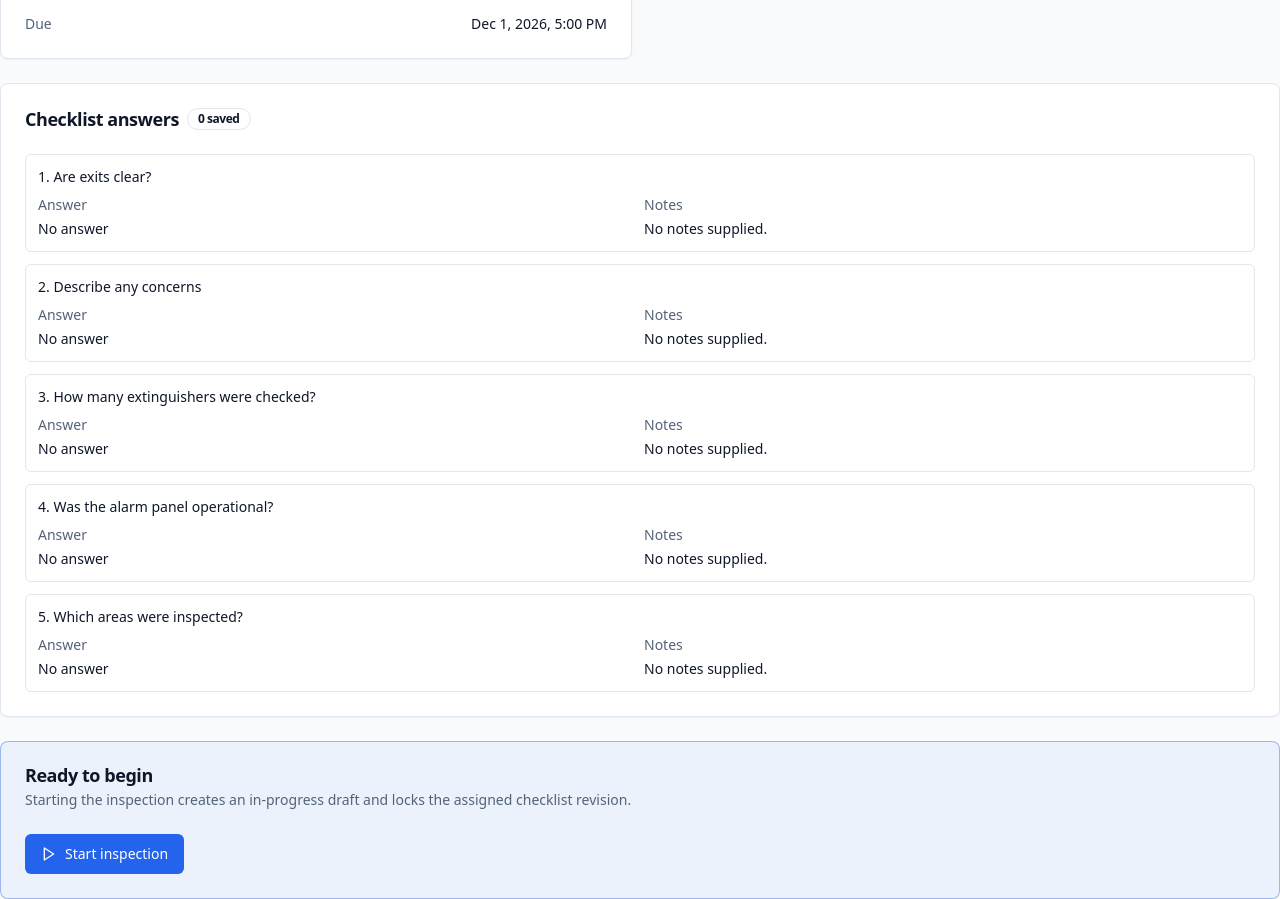
Test case: inspector workflow › starts an assigned inspection from its details page
(page scrolled)
Click the button "Start inspection" at {"x": 105, "y": 854}, box [25,834,184,874]
(page scrolled)
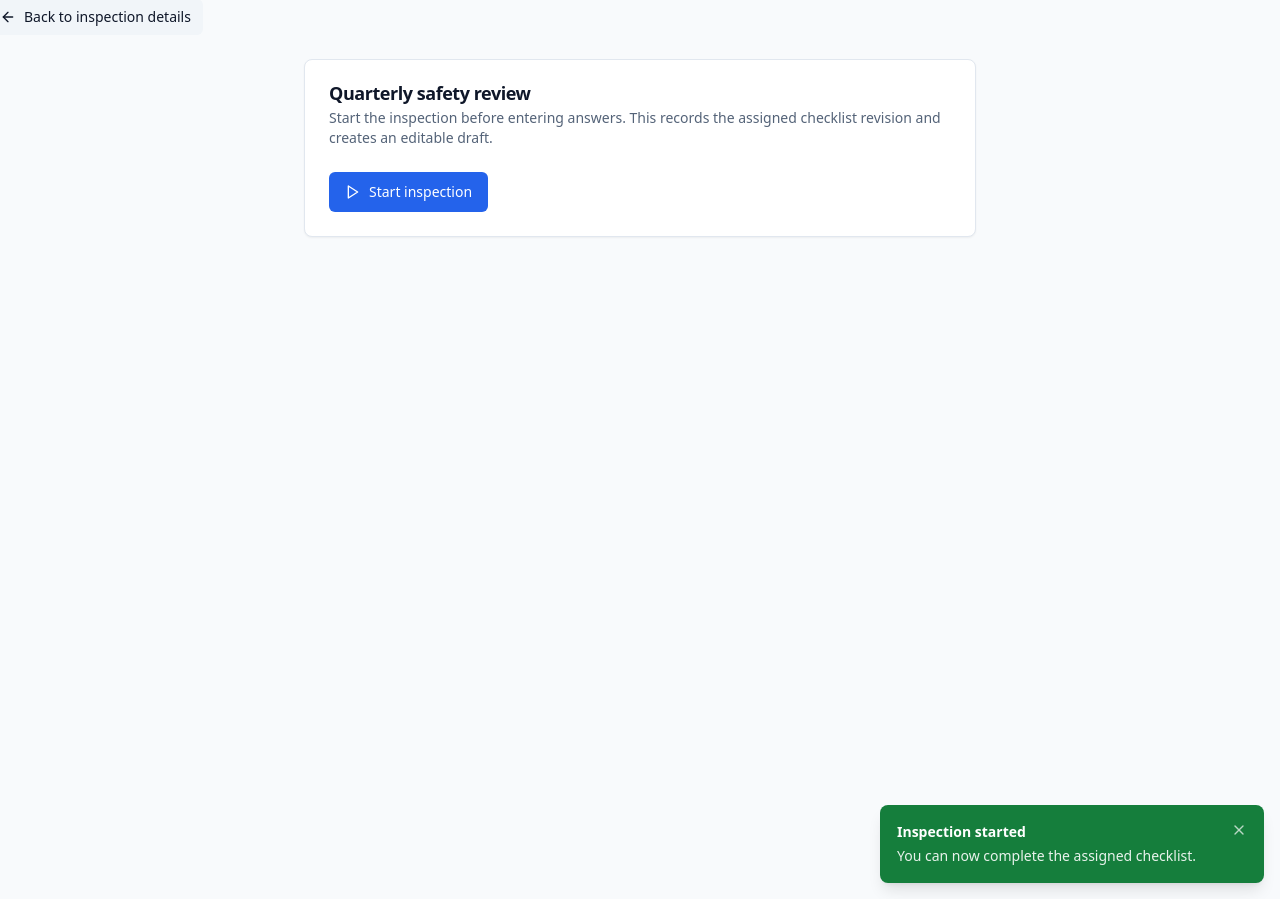
expect the text "Inspection started" is shown: met, box [897,822,1026,841]
